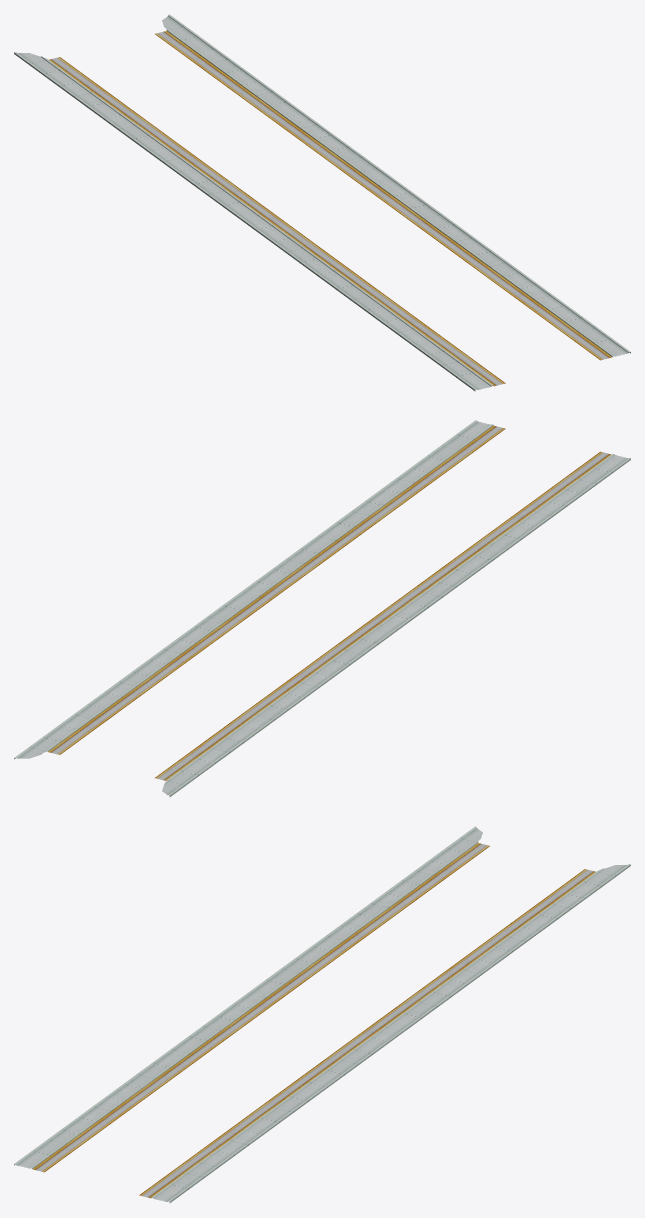
File: W3_HD_GongHuiBoss_dimian_08_02_D.FBX
3 views of the same model, one above another, from view 1: azimuth 30°, elevation 25°; view 2: azimuth 150°, elevation 25°; view 3: azimuth 330°, elevation 25° (orthographic).
Visible parts, largest first — view 1: W3_HD_GongHuiBoss_dimian_08_02_D; view 2: W3_HD_GongHuiBoss_dimian_08_02_D; view 3: W3_HD_GongHuiBoss_dimian_08_02_D.
Boxes of the visible parts, left/top/right/bottom form: W3_HD_GongHuiBoss_dimian_08_02_D: left=14, top=14, right=630, bottom=391; W3_HD_GongHuiBoss_dimian_08_02_D: left=14, top=420, right=630, bottom=797; W3_HD_GongHuiBoss_dimian_08_02_D: left=14, top=826, right=630, bottom=1203.
Size of the model in its own units: 13.07 by 0.1367 by 67.16.
